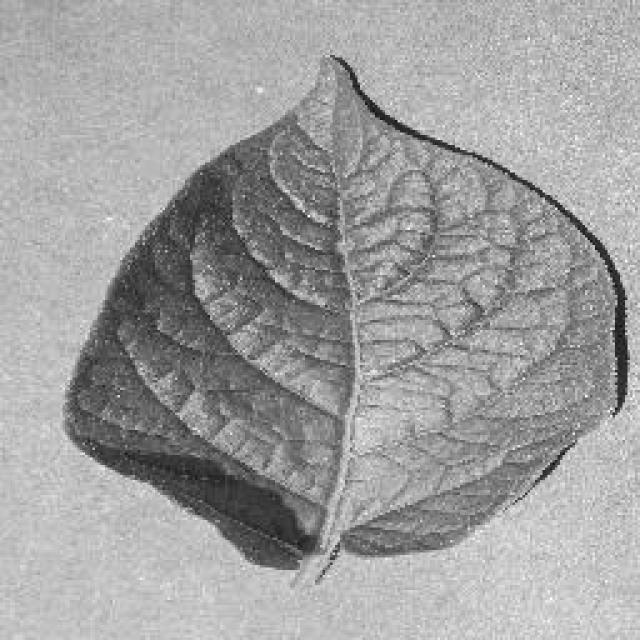Potato: (60, 50, 630, 588)
